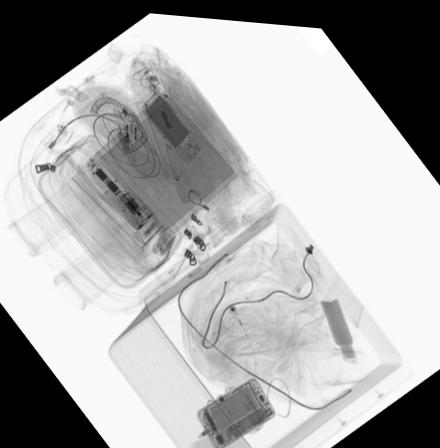Powerbank: (139, 84, 204, 160), (90, 159, 135, 205)
